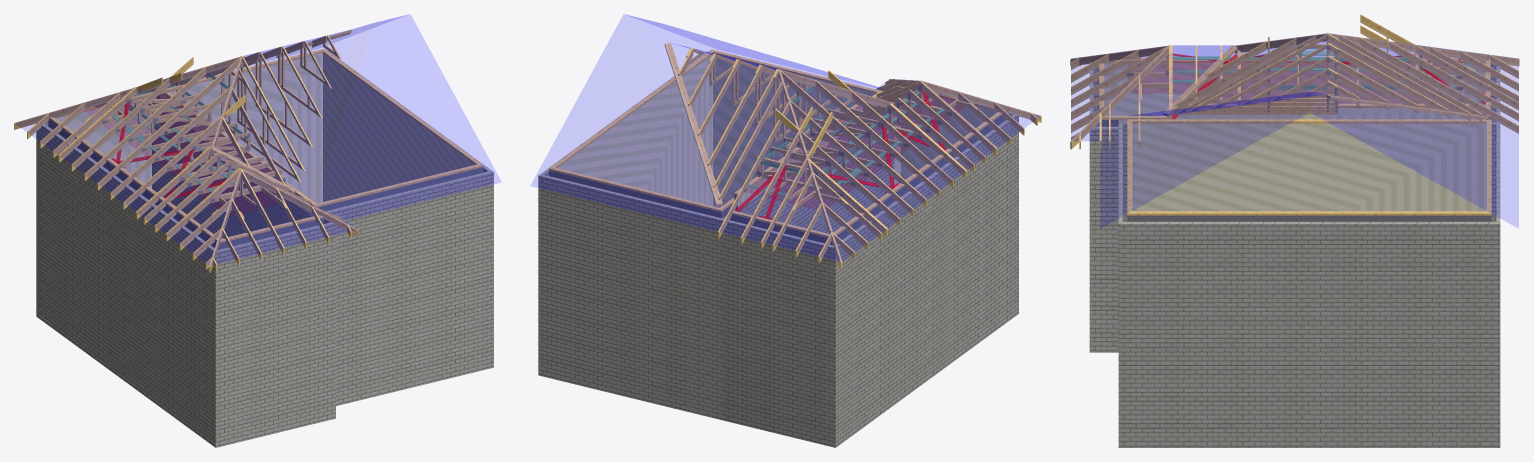
The picture shows the model from 3 angles, left to right: view 1: azimuth 30°, elevation 25°; view 2: azimuth 150°, elevation 25°; view 3: azimuth 270°, elevation 25°; orthographic projection. The views are drawn at different scales.
Parts seen in each view (by area): view 1: Object_10, Object_14, Object_4, Object_9, Object_3, Object_8, Object_2, Object_7, Object_5, Object_6; view 2: Object_10, Object_14, Object_4, Object_9, Object_3, Object_8, Object_2, Object_7, Object_6, Object_5, Object_12; view 3: Object_10, Object_14, Object_9, Object_4, Object_3, Object_8, Object_2, Object_12, Object_7, Object_11, Object_5.
Boxes of the visible parts, <box> form: Object_10: <box>36,50,493,447</box>; Object_14: <box>15,14,500,265</box>; Object_4: <box>14,29,358,272</box>; Object_9: <box>56,53,475,216</box>; Object_3: <box>49,48,483,242</box>; Object_8: <box>48,95,483,249</box>; Object_2: <box>85,94,287,215</box>; Object_7: <box>112,73,247,196</box>; Object_5: <box>102,37,336,208</box>; Object_6: <box>111,90,225,202</box>; Object_10: <box>538,51,1018,447</box>; Object_14: <box>531,14,1039,261</box>; Object_4: <box>664,43,1041,268</box>; Object_9: <box>557,54,997,207</box>; Object_3: <box>549,49,1006,237</box>; Object_8: <box>549,108,1006,245</box>; Object_2: <box>746,95,964,209</box>; Object_7: <box>747,86,944,196</box>; Object_6: <box>733,90,946,219</box>; Object_5: <box>689,52,951,202</box>; Object_12: <box>738,106,862,209</box>; Object_10: <box>1089,62,1500,447</box>; Object_14: <box>1071,33,1518,227</box>; Object_9: <box>1104,63,1486,211</box>; Object_4: <box>1070,14,1519,149</box>; Object_3: <box>1099,58,1491,215</box>; Object_8: <box>1099,118,1491,221</box>; Object_2: <box>1128,59,1461,102</box>; Object_12: <box>1118,108,1466,124</box>; Object_7: <box>1172,48,1454,89</box>; Object_11: <box>1118,103,1469,119</box>; Object_5: <box>1127,35,1462,113</box>.
Size of the model in its own units: 8172 by 7483 by 9093.
Materials: 13 (9 with a texture image).
